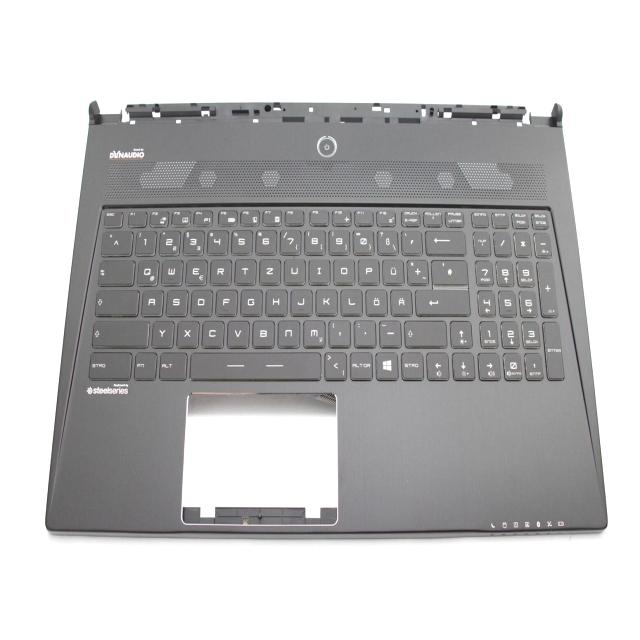0: (351, 227, 373, 253)
1: (134, 227, 156, 254)
2: (158, 227, 180, 254)
3: (182, 227, 204, 254)
4: (206, 227, 228, 253)
5: (230, 227, 252, 253)
6: (254, 227, 276, 253)
7: (278, 227, 300, 253)
8: (303, 227, 325, 253)
9: (327, 227, 349, 253)
a: (140, 286, 162, 314)
accent: (400, 227, 421, 253)
ae: (389, 286, 411, 314)
alt-left: (157, 349, 186, 379)
altgr-right: (349, 349, 373, 379)
b: (251, 318, 274, 346)
c: (200, 318, 224, 346)
caret: (100, 228, 132, 254)
comma: (327, 318, 350, 346)
d: (190, 286, 212, 314)
del: (423, 228, 464, 254)
e: (184, 256, 206, 284)
enter: (413, 286, 469, 314)
f: (214, 286, 236, 314)
g: (239, 286, 261, 314)
h: (264, 286, 286, 314)
hash: (430, 258, 467, 284)
i: (307, 255, 329, 282)
j: (289, 286, 311, 314)
k: (314, 286, 336, 314)
keyboard: (82, 197, 570, 391)
l: (339, 286, 361, 314)
less: (322, 350, 346, 380)
m: (301, 317, 325, 346)
minus: (377, 318, 401, 346)
n: (276, 317, 299, 346)
o: (332, 256, 354, 283)
oe: (364, 286, 386, 314)
p: (357, 256, 379, 283)
plus: (405, 256, 427, 283)
point: (353, 318, 375, 346)
q: (136, 256, 158, 284)
r: (209, 256, 231, 283)
s: (165, 287, 187, 315)
shift-left: (91, 316, 149, 346)
shift-lock: (94, 286, 138, 314)
shift-right: (403, 317, 447, 346)
space: (188, 349, 321, 380)
ss: (376, 227, 397, 253)
strg-left: (86, 349, 132, 379)
strg-right: (400, 349, 424, 379)
t: (233, 257, 255, 283)
tab: (97, 257, 134, 284)
u: (283, 256, 305, 284)
ue: (381, 256, 403, 283)
v: (226, 318, 249, 347)
w: (160, 256, 182, 284)
x: (175, 318, 198, 346)
y: (150, 318, 173, 346)
z: (258, 256, 280, 284)
